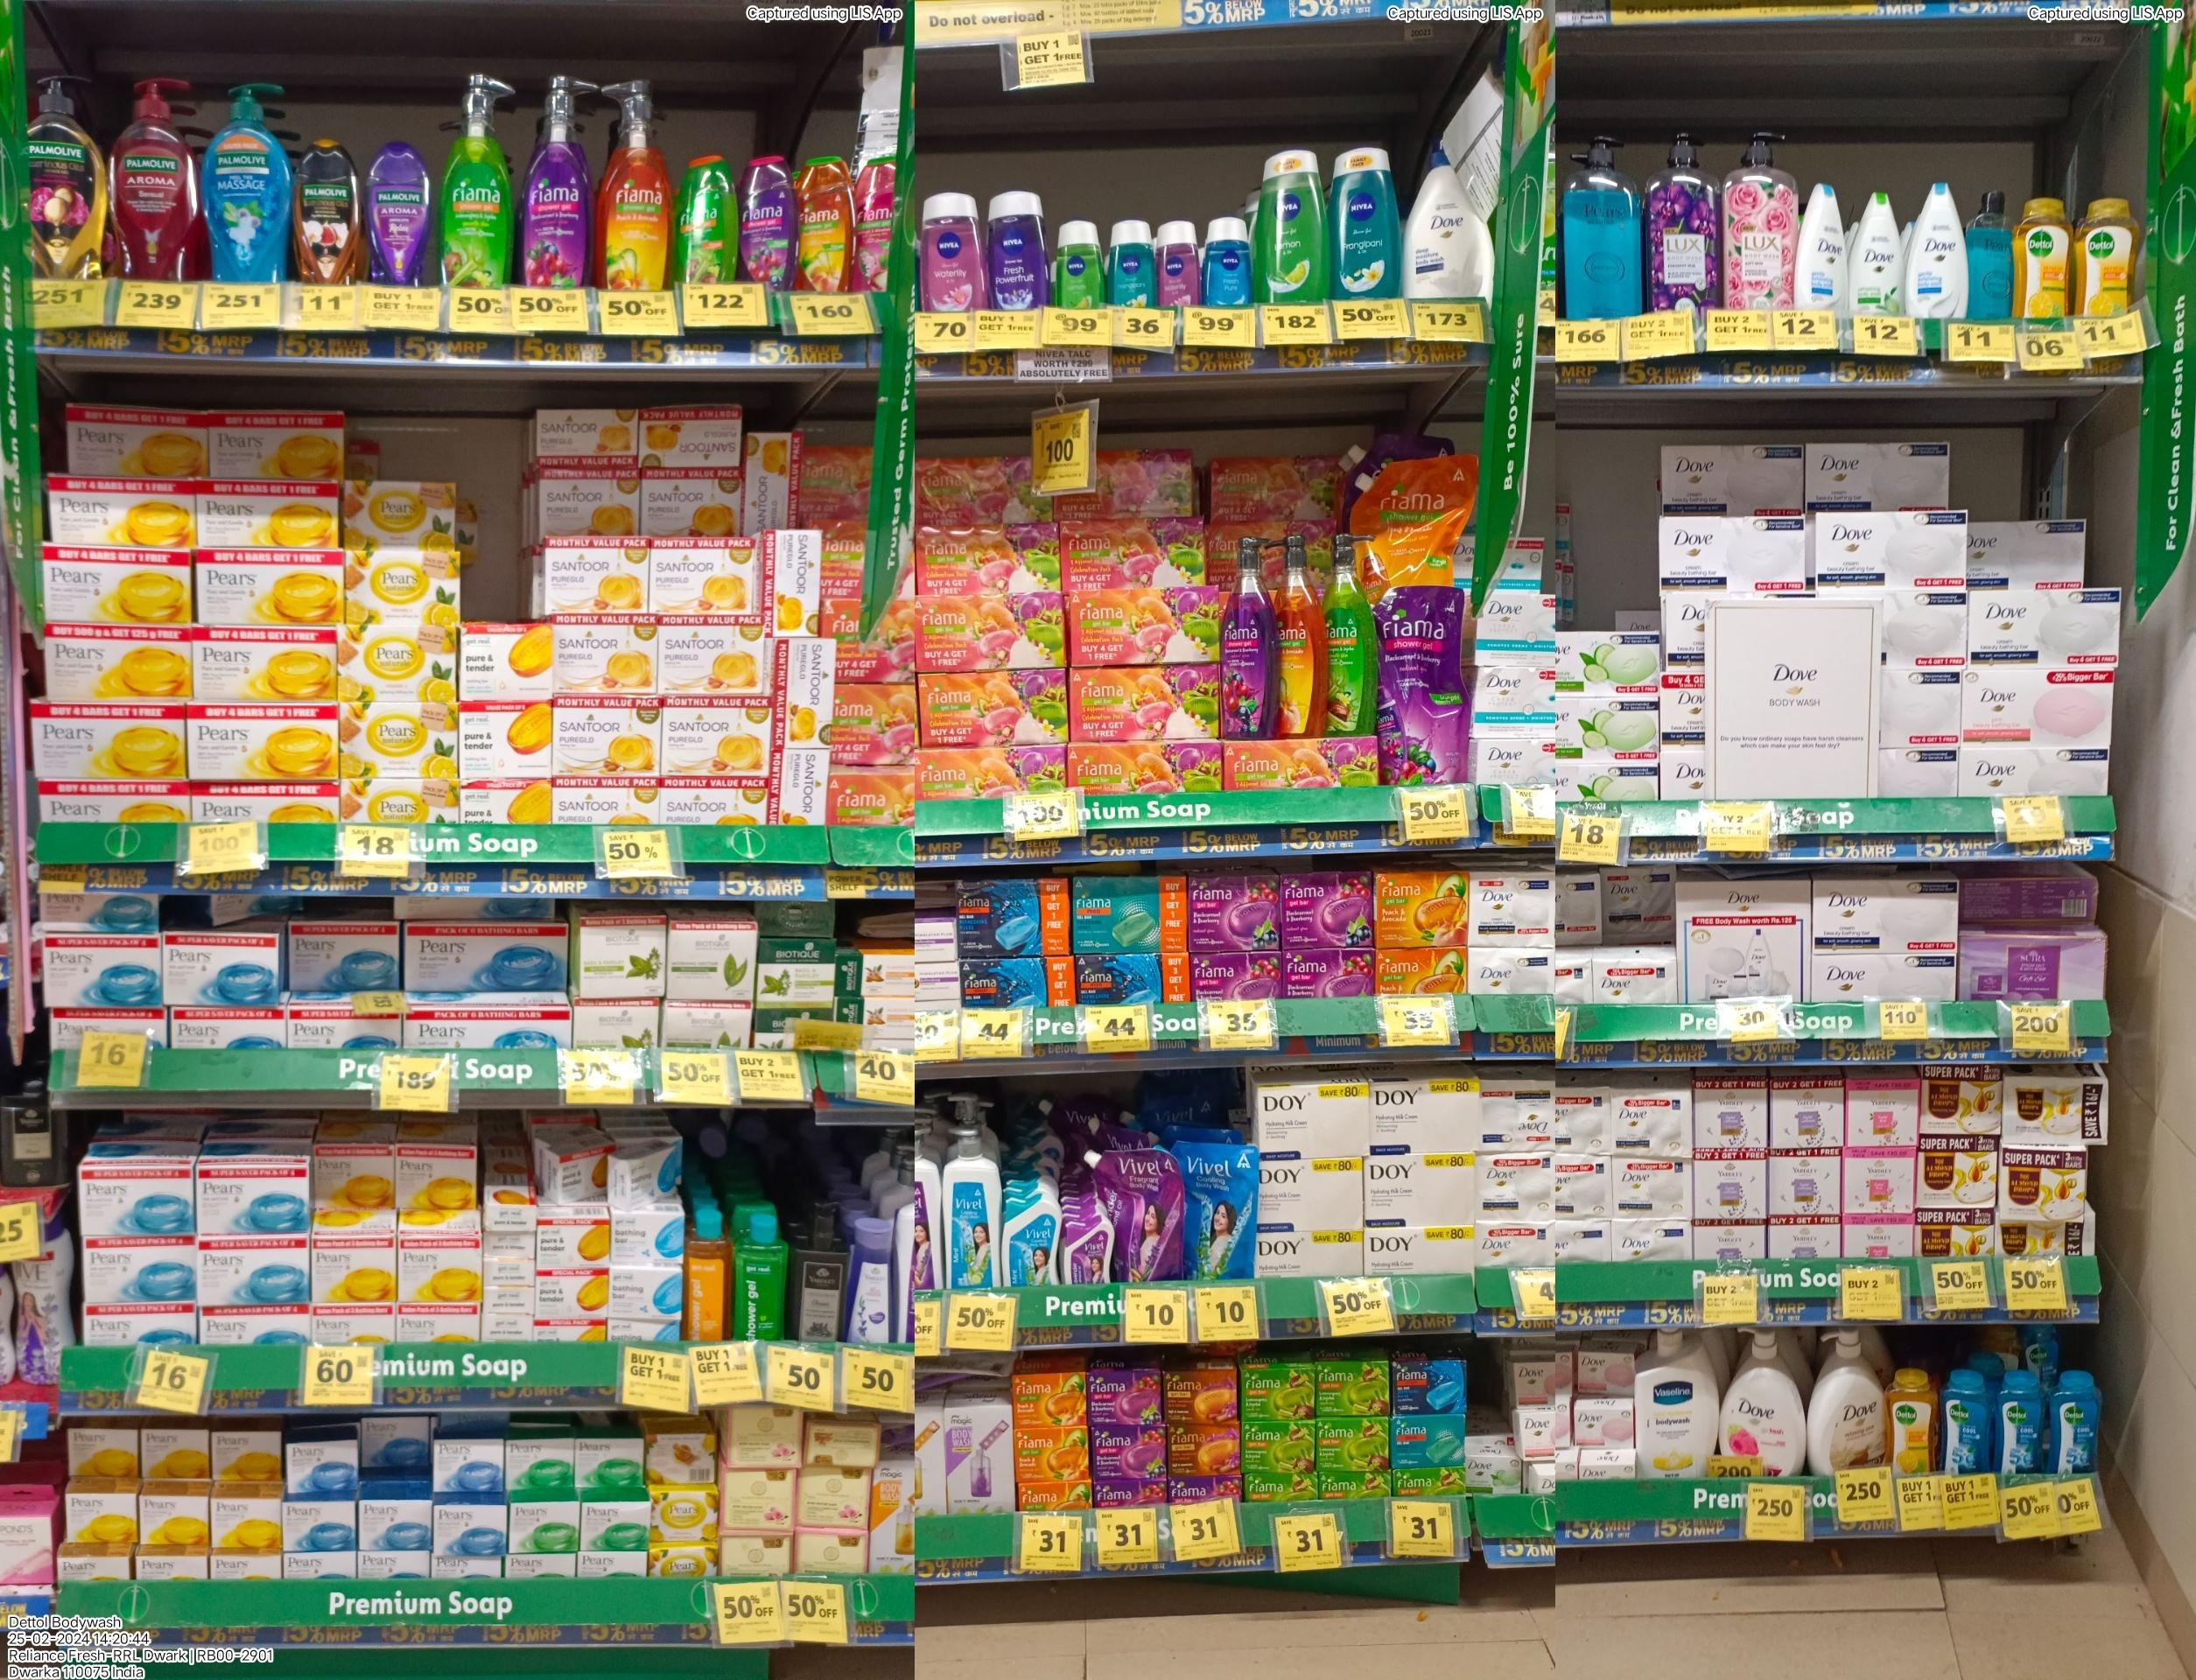Dettol_Bodywash_Refresh: (2076, 198, 2138, 318), (2018, 198, 2074, 318)
Dove_Gentle_Exfoliating_Body_Wash_250ML: (1906, 184, 1968, 319), (1795, 184, 1850, 318)
Dove_Refreshing_Body_Wash_250ML: (1854, 192, 1906, 314)
Fiama_Shower_Gel_Lemongrass_and_Jojoba_250ML: (676, 155, 736, 284)
Fiama_Shower_Gel_Patchouli_and_Macadamia_250ML: (856, 155, 891, 291)
Fiama_Shower_Gel_Peach_and_Avocado_250ML: (796, 157, 856, 288)
Nivea_Shower_Gel_Frangipani_and_Oil_250ML: (1331, 148, 1400, 298)
Nivea_Shower_Gel_Fresh_Powerfruit_250ML: (989, 192, 1045, 309)
Nivea_Shower_Gel_Lemon_and_Oil_250ML: (1257, 150, 1324, 302)
Nivea_Shower_Gel_Waterlily_and_Oil_250ML: (923, 194, 987, 314)
Palmolive_Aroma_Relax_250ML: (367, 145, 429, 284)
Palmolive_Luminous_Oils_With_White_Orchid_Shower_Gel_250ML: (290, 139, 364, 282)
Pears_Pure_Glycerin_and_Mint_Extracts_Body_Wash_250ML: (1970, 189, 2016, 323)
